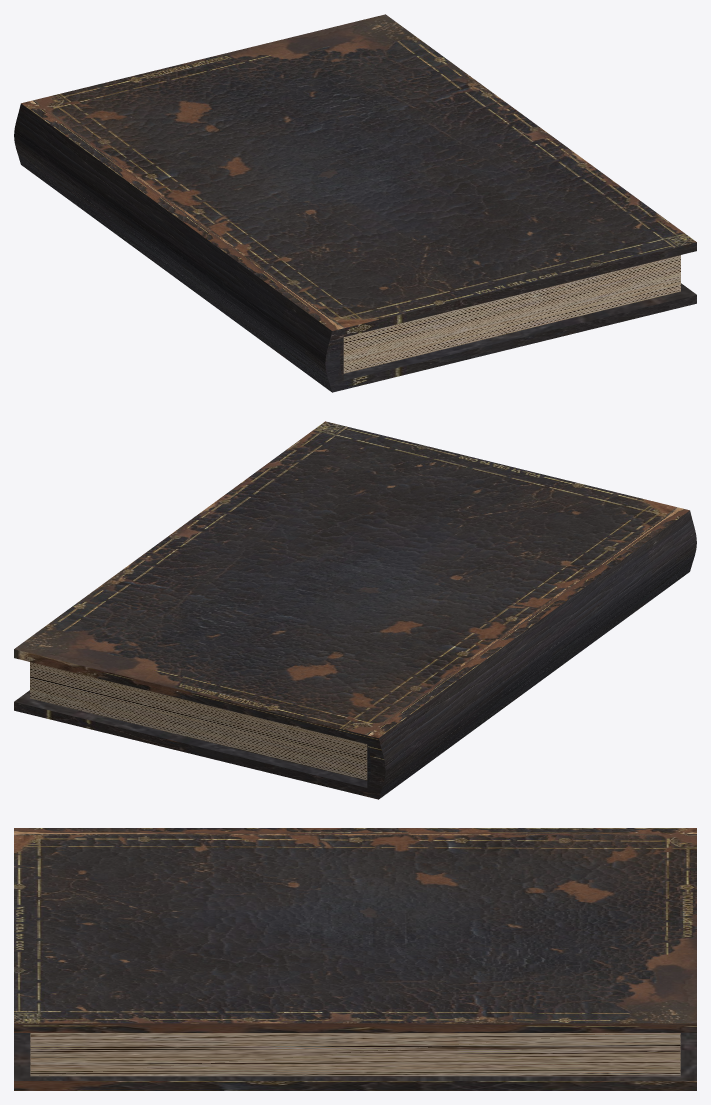
File: livro_teste.gltf
3 views of the same model, one above another, from view 1: azimuth 30°, elevation 25°; view 2: azimuth 150°, elevation 25°; view 3: azimuth 270°, elevation 25° (orthographic). The views are drawn at different scales.
Visible parts, largest first — view 1: Cube.002; view 2: Cube.002; view 3: Cube.002.
Part boxes in pixels (x1,y1,x2,y2): Cube.002: (14, 14, 696, 392); Cube.002: (14, 421, 696, 799); Cube.002: (14, 828, 696, 1090).
Size of the model in its own units: 0.5992 by 0.0947 by 0.8693.
2 materials, 2 textured.
